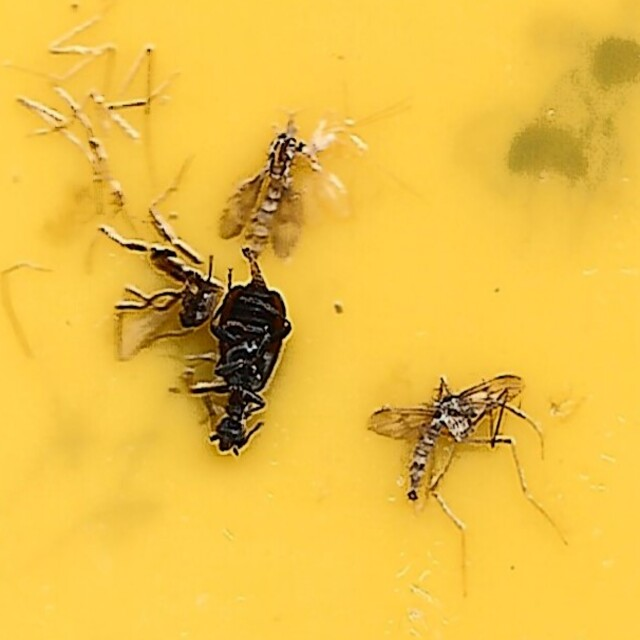Coleoptera: (192, 252, 294, 459)
Nematocera: (360, 367, 534, 517), (213, 123, 353, 256), (106, 199, 223, 351)
